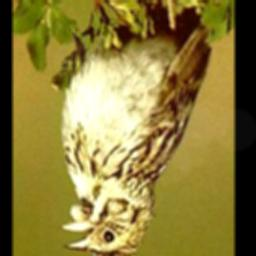Sparrow: (56, 0, 211, 256)
